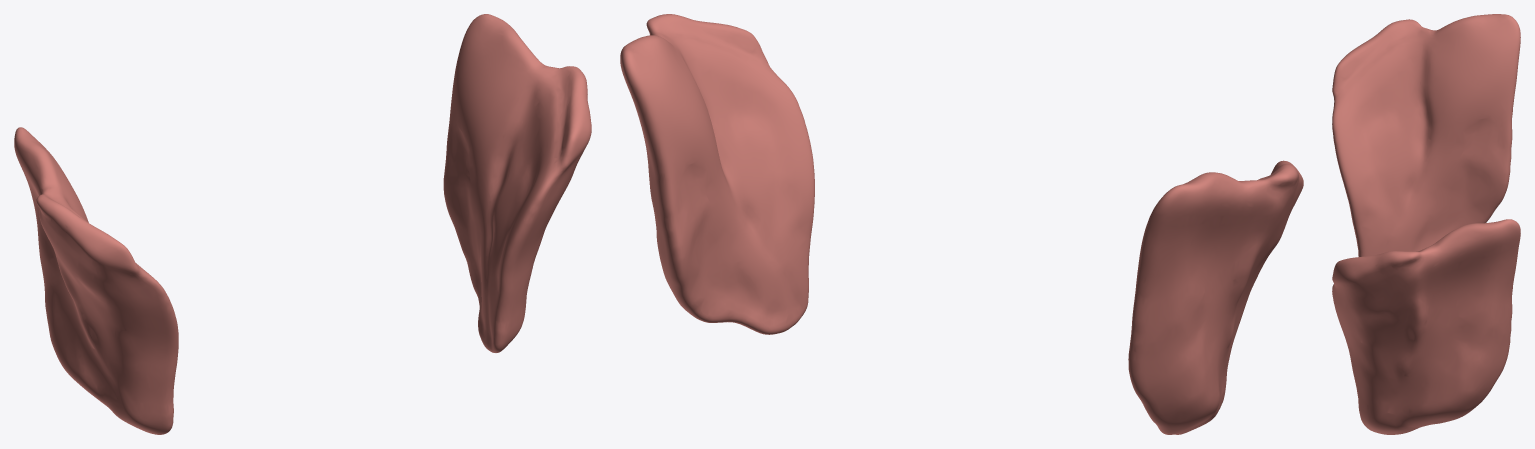
File: masseter.glb
3 views of the same model, side by side, from view 1: azimuth 30°, elevation 25°; view 2: azimuth 150°, elevation 25°; view 3: azimuth 270°, elevation 25° (orthographic). The views are drawn at different scales.
Parts seen in each view (by area): view 1: masseter_L, masseter_R; view 2: masseter_L, masseter_R; view 3: masseter_R, masseter_L.
Part boxes in pixels (x1,y1,x2,y2): masseter_L: (443,14,591,352); masseter_R: (14,127,178,434); masseter_L: (620,14,814,334); masseter_R: (1128,160,1303,434); masseter_R: (1332,14,1520,256); masseter_L: (1332,219,1520,434).
Bounding box in the file's own units: 0.1347 × 0.064 × 0.0452.
